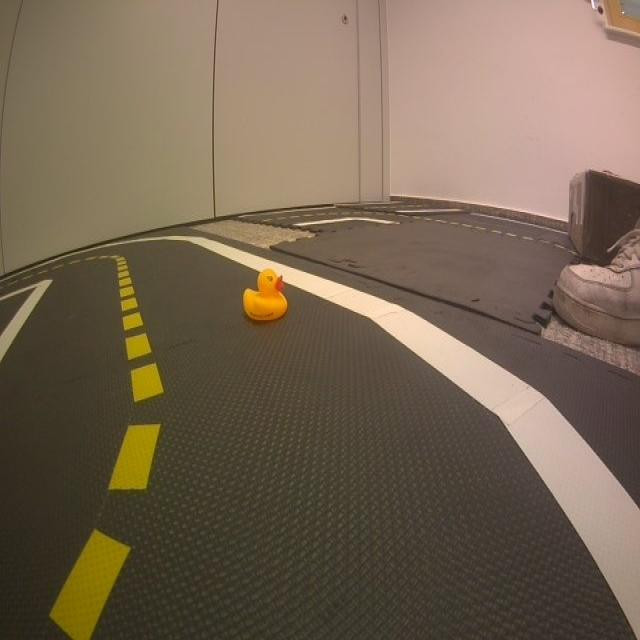duckie: (242, 268, 288, 322)
